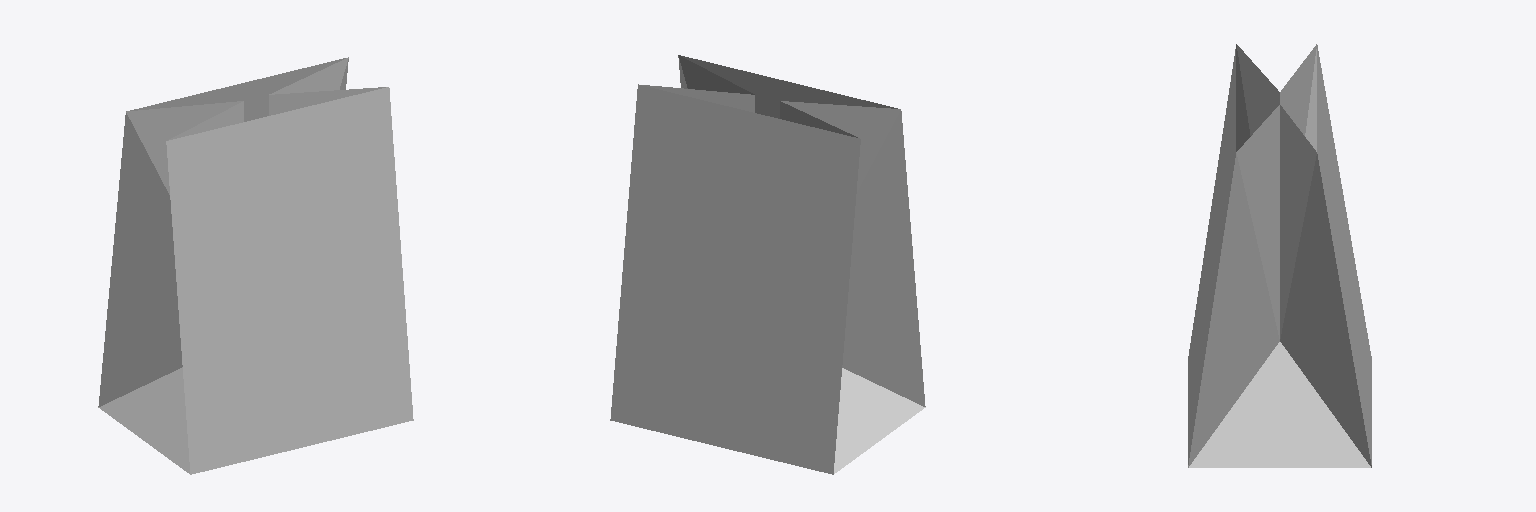
Rendered from Bag.obj.
3 renders of one model, left to right at view 1: azimuth 30°, elevation 25°; view 2: azimuth 150°, elevation 25°; view 3: azimuth 270°, elevation 25°, orthographic.
Visible parts, largest first — view 1: Cube; view 2: Cube; view 3: Cube.
Boxes of the visible parts, box(x1,y1,x2,y2) form: Cube: box(98, 57, 413, 474); Cube: box(610, 55, 925, 474); Cube: box(1188, 44, 1371, 467).
Bounding box in the file's own units: 4.43 × 6 × 3.17.